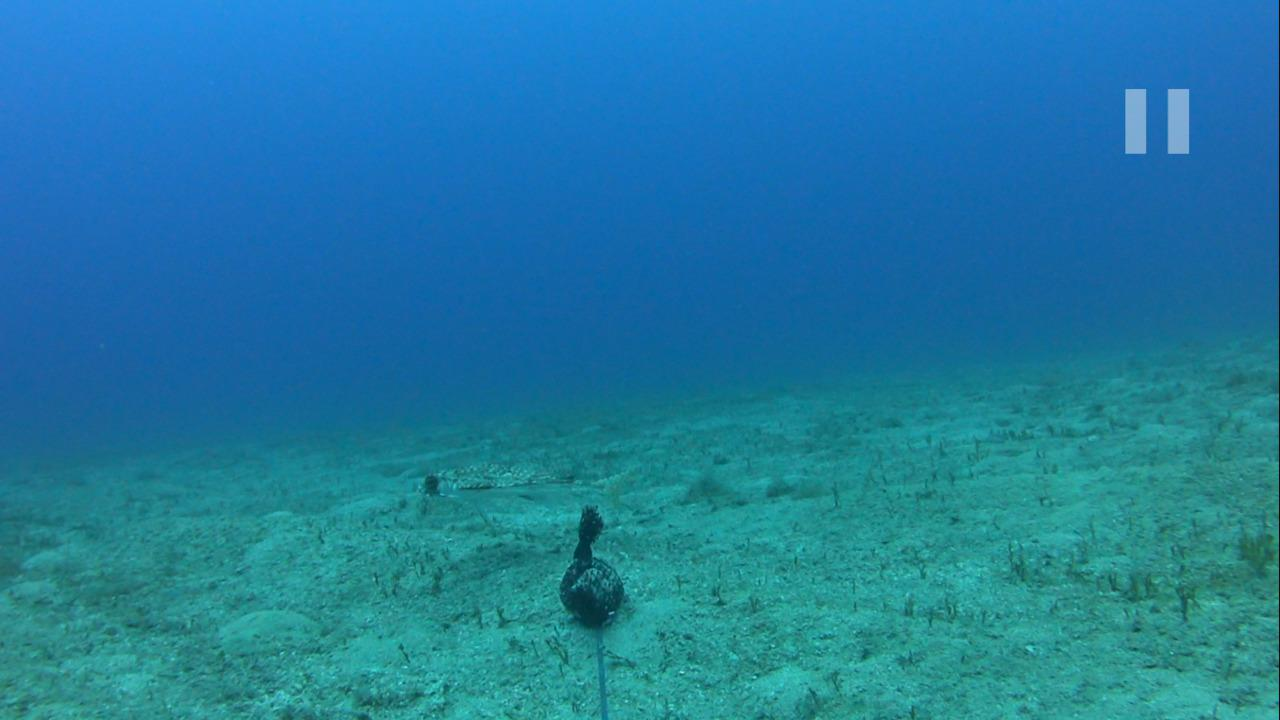dactylopterus: (404, 460, 633, 533)
